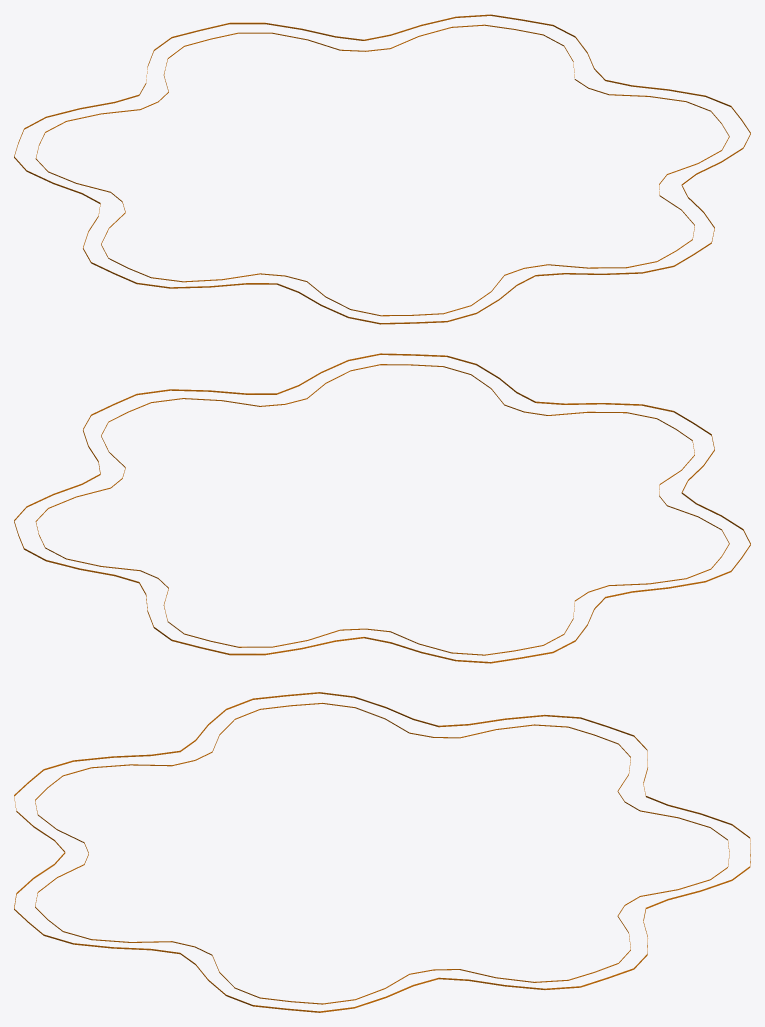
File: ParadiseFloorTrim.fbx
3 views of the same model, one above another, from view 1: azimuth 30°, elevation 25°; view 2: azimuth 150°, elevation 25°; view 3: azimuth 270°, elevation 25° (orthographic). The views are drawn at different scales.
Visible parts, largest first — view 1: ParadiseFloor.Trim; view 2: ParadiseFloor.Trim; view 3: ParadiseFloor.Trim.
Boxes of the visible parts, <box> form: ParadiseFloor.Trim: <box>14,14,750,324</box>; ParadiseFloor.Trim: <box>14,353,750,663</box>; ParadiseFloor.Trim: <box>14,692,750,1012</box>.
Bounding box in the file's own units: 11367 × 40.32 × 11082.
